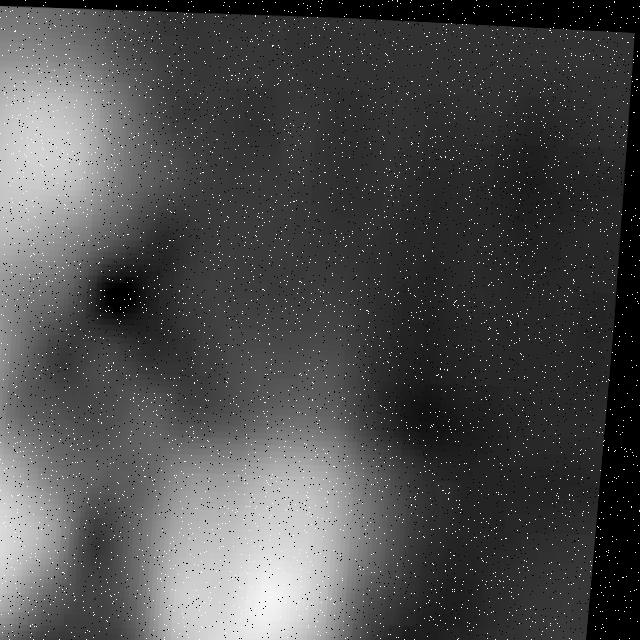person: (1, 3, 173, 640), (119, 361, 464, 640)
